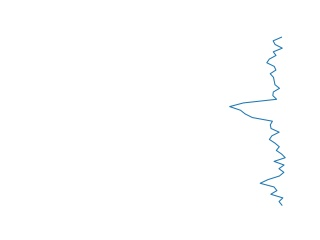interdistributaryEstuary: (227, 35, 289, 206)
